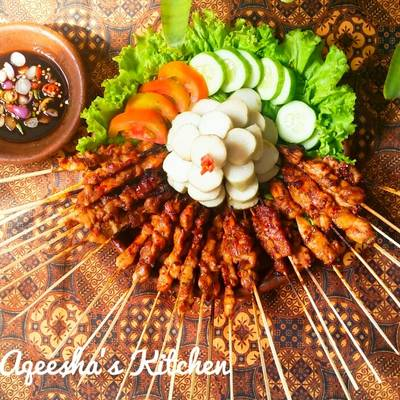sate: (63, 37, 400, 306)
